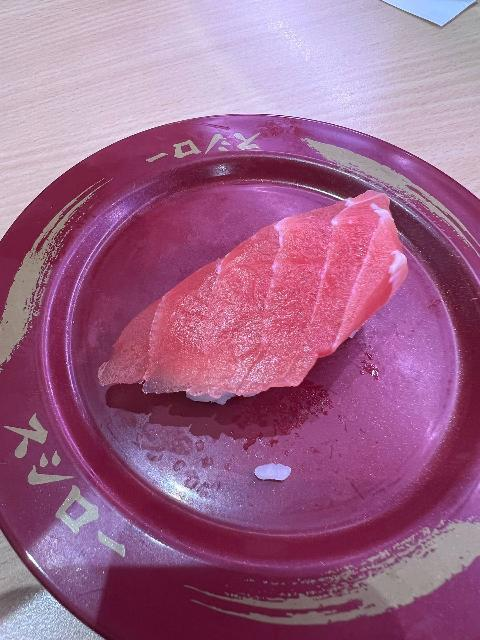janred: (0, 170, 480, 593)
